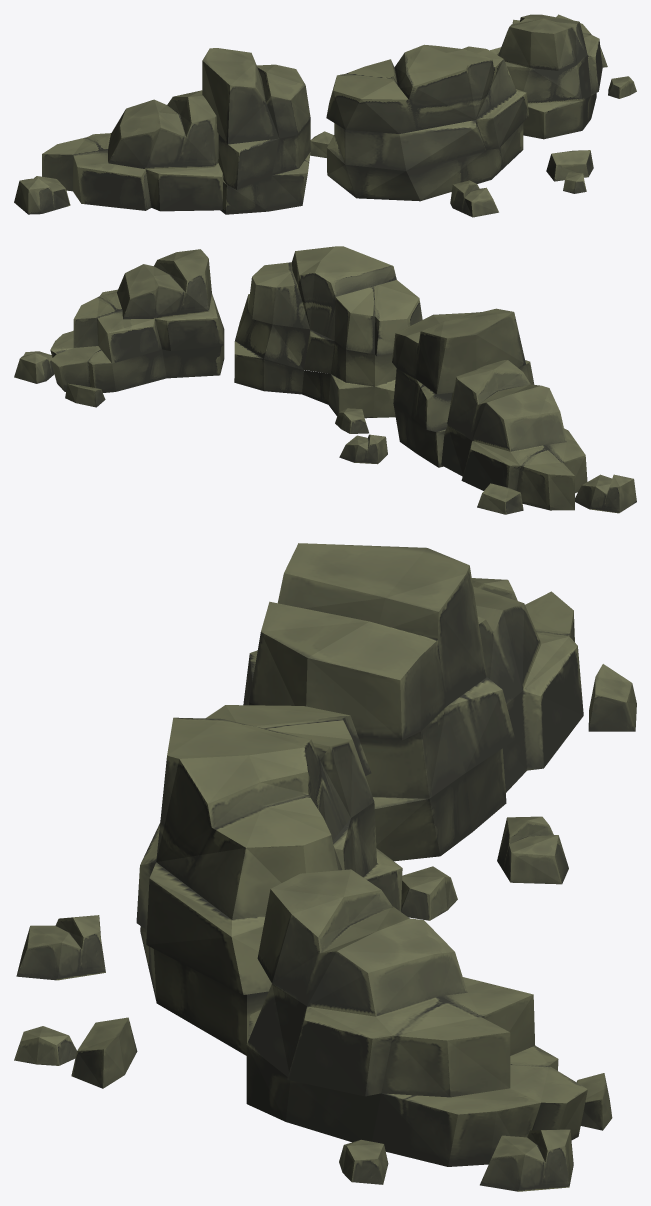
The model's file is Rock21.fbx.
The picture shows the model from 3 angles, top to bottom: view 1: azimuth 30°, elevation 25°; view 2: azimuth 150°, elevation 25°; view 3: azimuth 270°, elevation 25°; orthographic projection. The views are drawn at different scales.
Parts seen in each view (by area): view 1: Rock21; view 2: Rock21; view 3: Rock21.
Boxes of the visible parts, x1,y1,x2,y2 form: Rock21: (14, 14, 636, 217); Rock21: (14, 246, 636, 514); Rock21: (14, 543, 636, 1191).
Size of the model in its own units: 1216 by 241 by 561.
